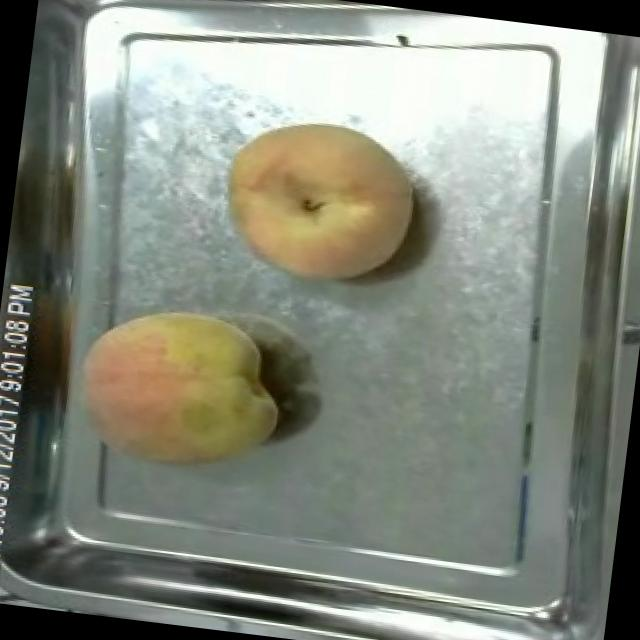Fruit: (57, 288, 296, 488), (205, 100, 429, 302)
